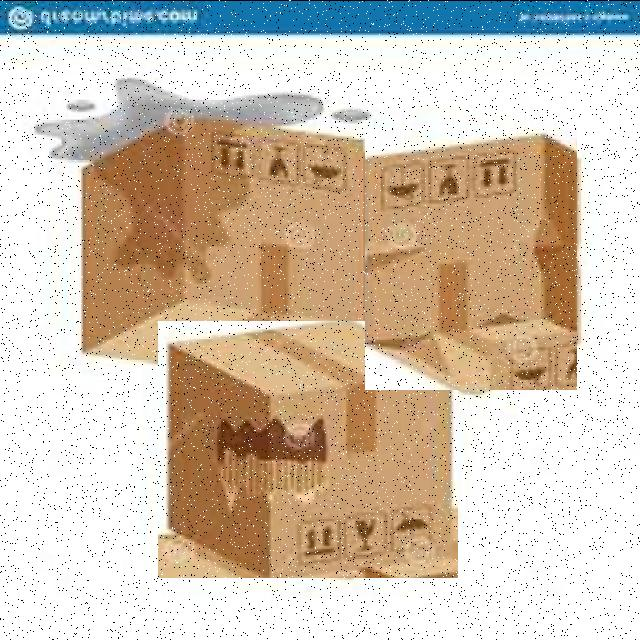defect: (158, 320, 458, 577), (72, 112, 368, 366), (365, 128, 577, 389)
